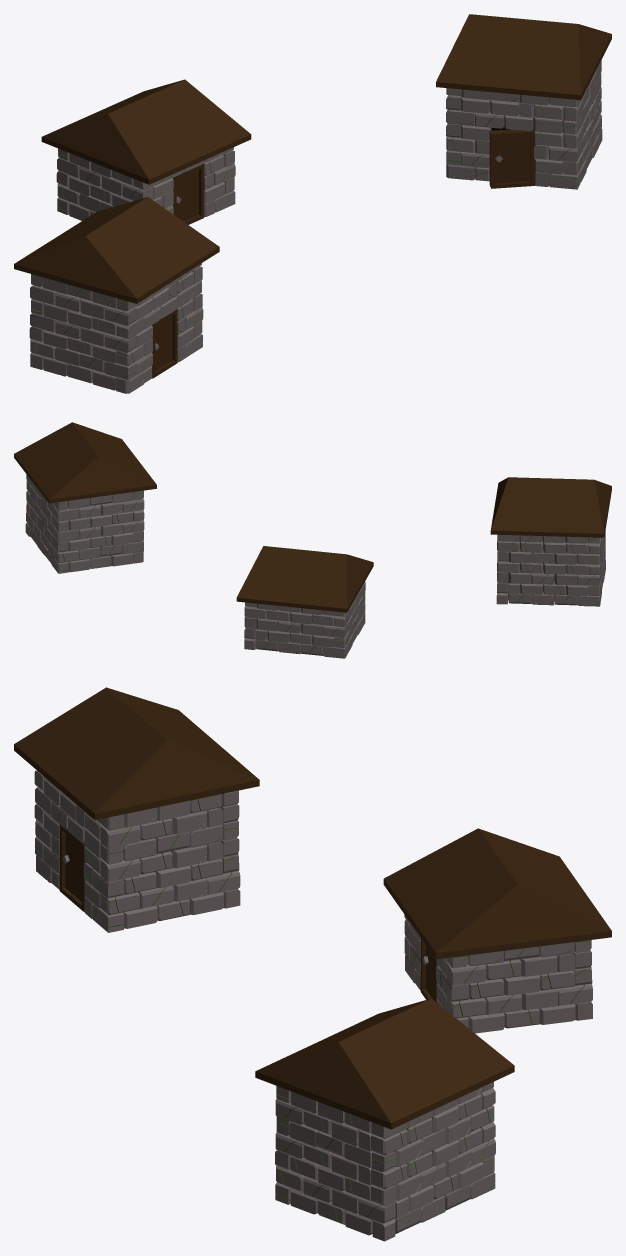
File: casine3.fbx
3 renders of one model, top to bottom at view 1: azimuth 30°, elevation 25°; view 2: azimuth 150°, elevation 25°; view 3: azimuth 270°, elevation 25°, orthographic. The views are drawn at different scales.
Parts seen in each view (by area): view 1: casine.002; view 2: casine.002; view 3: casine.002.
Boxes of the visible parts, <box> form: casine.002: <box>14,14,611,393</box>; casine.002: <box>14,422,611,658</box>; casine.002: <box>14,687,611,1241</box>.
Size of the model in its own units: 2139 by 422 by 1307.
